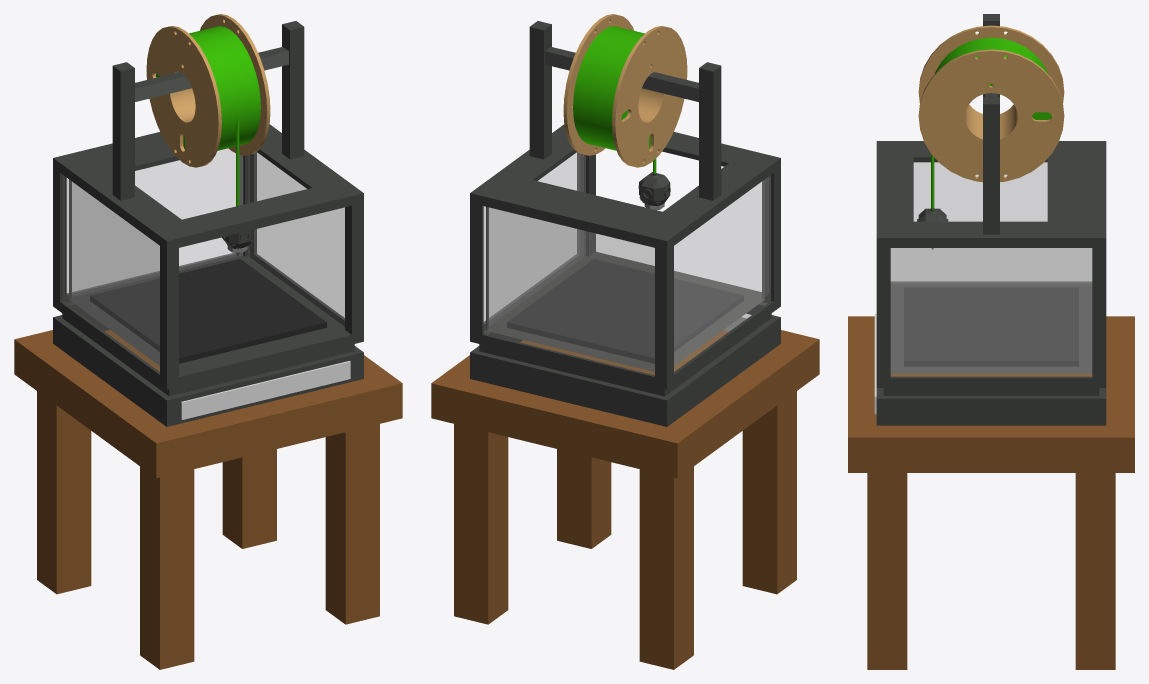
Rendered from PrinterGreenPLA.glb.
3 renders of one model, left to right at view 1: azimuth 30°, elevation 25°; view 2: azimuth 150°, elevation 25°; view 3: azimuth 270°, elevation 25°, orthographic.
Parts seen in each view (by area): view 1: Printer, Table Legs, Table, Roll, PLA Holder, PLA Blue, Progress Bar, Nozzle + Head + PLA; view 2: Printer, Table Legs, Table, Roll, PLA Holder, PLA Blue, Nozzle + Head + PLA; view 3: Printer, Table, Table Legs, Roll, PLA Holder, PLA Blue, Nozzle + Head + PLA.
Boxes of the visible parts, <box> form: Printer: <box>53,124,363,426</box>; Table Legs: <box>37,391,379,669</box>; Table: <box>14,330,402,478</box>; Roll: <box>146,14,270,167</box>; PLA Holder: <box>112,21,304,200</box>; PLA Blue: <box>156,26,260,150</box>; Progress Bar: <box>181,361,350,419</box>; Nozzle + Head + PLA: <box>222,115,253,256</box>; Printer: <box>470,124,780,426</box>; Table Legs: <box>454,391,796,669</box>; Table: <box>431,330,819,478</box>; Roll: <box>563,14,687,167</box>; PLA Holder: <box>529,21,721,200</box>; PLA Blue: <box>573,26,650,150</box>; Nozzle + Head + PLA: <box>638,158,670,210</box>; Printer: <box>876,141,1106,425</box>; Table: <box>848,316,1134,472</box>; Table Legs: <box>867,473,1115,669</box>; Roll: <box>918,25,1064,181</box>; PLA Holder: <box>983,14,999,234</box>; PLA Blue: <box>935,37,1051,119</box>; Nozzle + Head + PLA: <box>917,154,948,249</box>.
Size of the model in its own units: 2.5 by 5.55 by 2.5.
Materials: 9 (1 with a texture image).
